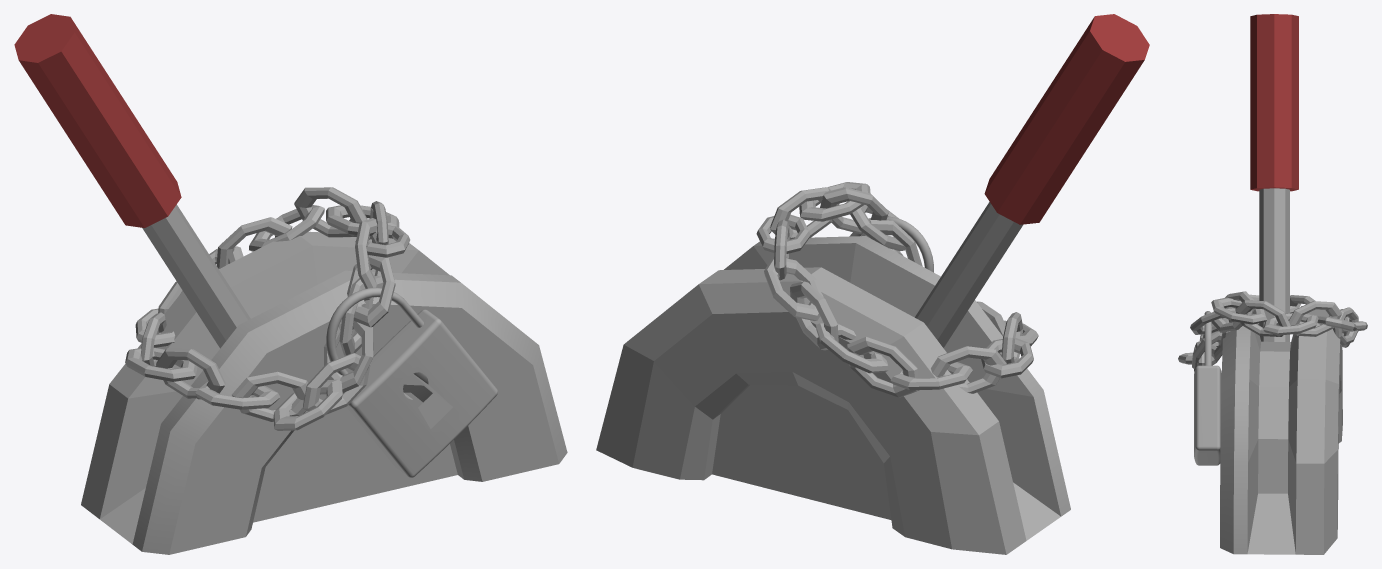
File: AlavancaTrancadaFBX.fbx
The picture shows the model from 3 angles, left to right: view 1: azimuth 30°, elevation 25°; view 2: azimuth 150°, elevation 25°; view 3: azimuth 270°, elevation 25°; orthographic projection. The views are drawn at different scales.
Visible parts, largest first — view 1: alavanca:pCylinder1, alavanca:pCylinder4, Lockpad:pCube5, transform3_11, transform3_9, transform3_10, transform3_3, transform3_5, transform3_6, transform3_2, transform3_4, transform3_8; view 2: alavanca:pCylinder1, alavanca:pCylinder4, transform3_7, transform3_6, transform3_8, transform3_4, transform3_3, transform3_9, transform3_5, transform3_2, Lockpad:pCube5; view 3: alavanca:pCylinder1, alavanca:pCylinder4, Lockpad:pCube5, transform3_4, transform3_5, transform3_3, transform3_6, transform3_2, transform3_11.
Part boxes in pixels (x1,y1,x2,y2): alavanca:pCylinder1: [81, 231, 567, 554]; alavanca:pCylinder4: [14, 14, 250, 348]; Lockpad:pCube5: [326, 287, 497, 477]; transform3_11: [273, 353, 370, 430]; transform3_9: [125, 347, 225, 399]; transform3_10: [195, 371, 307, 421]; transform3_3: [347, 218, 395, 327]; transform3_5: [294, 187, 399, 237]; transform3_6: [216, 205, 324, 268]; transform3_2: [324, 278, 373, 392]; transform3_4: [355, 201, 410, 257]; transform3_8: [135, 308, 175, 366]; alavanca:pCylinder1: [596, 236, 1070, 554]; alavanca:pCylinder4: [915, 14, 1149, 347]; transform3_7: [816, 323, 919, 397]; transform3_6: [764, 256, 838, 350]; transform3_8: [890, 346, 1006, 393]; transform3_4: [770, 182, 870, 239]; transform3_3: [820, 187, 904, 251]; transform3_9: [981, 312, 1033, 378]; transform3_5: [756, 214, 810, 280]; transform3_2: [861, 220, 922, 266]; Lockpad:pCube5: [849, 216, 933, 272]; alavanca:pCylinder1: [1220, 306, 1342, 554]; alavanca:pCylinder4: [1250, 14, 1298, 341]; Lockpad:pCube5: [1194, 311, 1221, 465]; transform3_4: [1211, 297, 1290, 336]; transform3_5: [1263, 301, 1342, 336]; transform3_3: [1190, 291, 1253, 334]; transform3_6: [1317, 307, 1358, 345]; transform3_2: [1192, 318, 1230, 368]; transform3_11: [1178, 341, 1204, 371].
Bounding box in the file's own units: 13.14 × 12.74 × 5.81.
